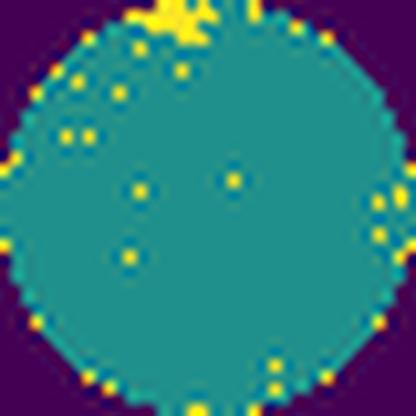Edge-Loc: (119, 0, 222, 43)
